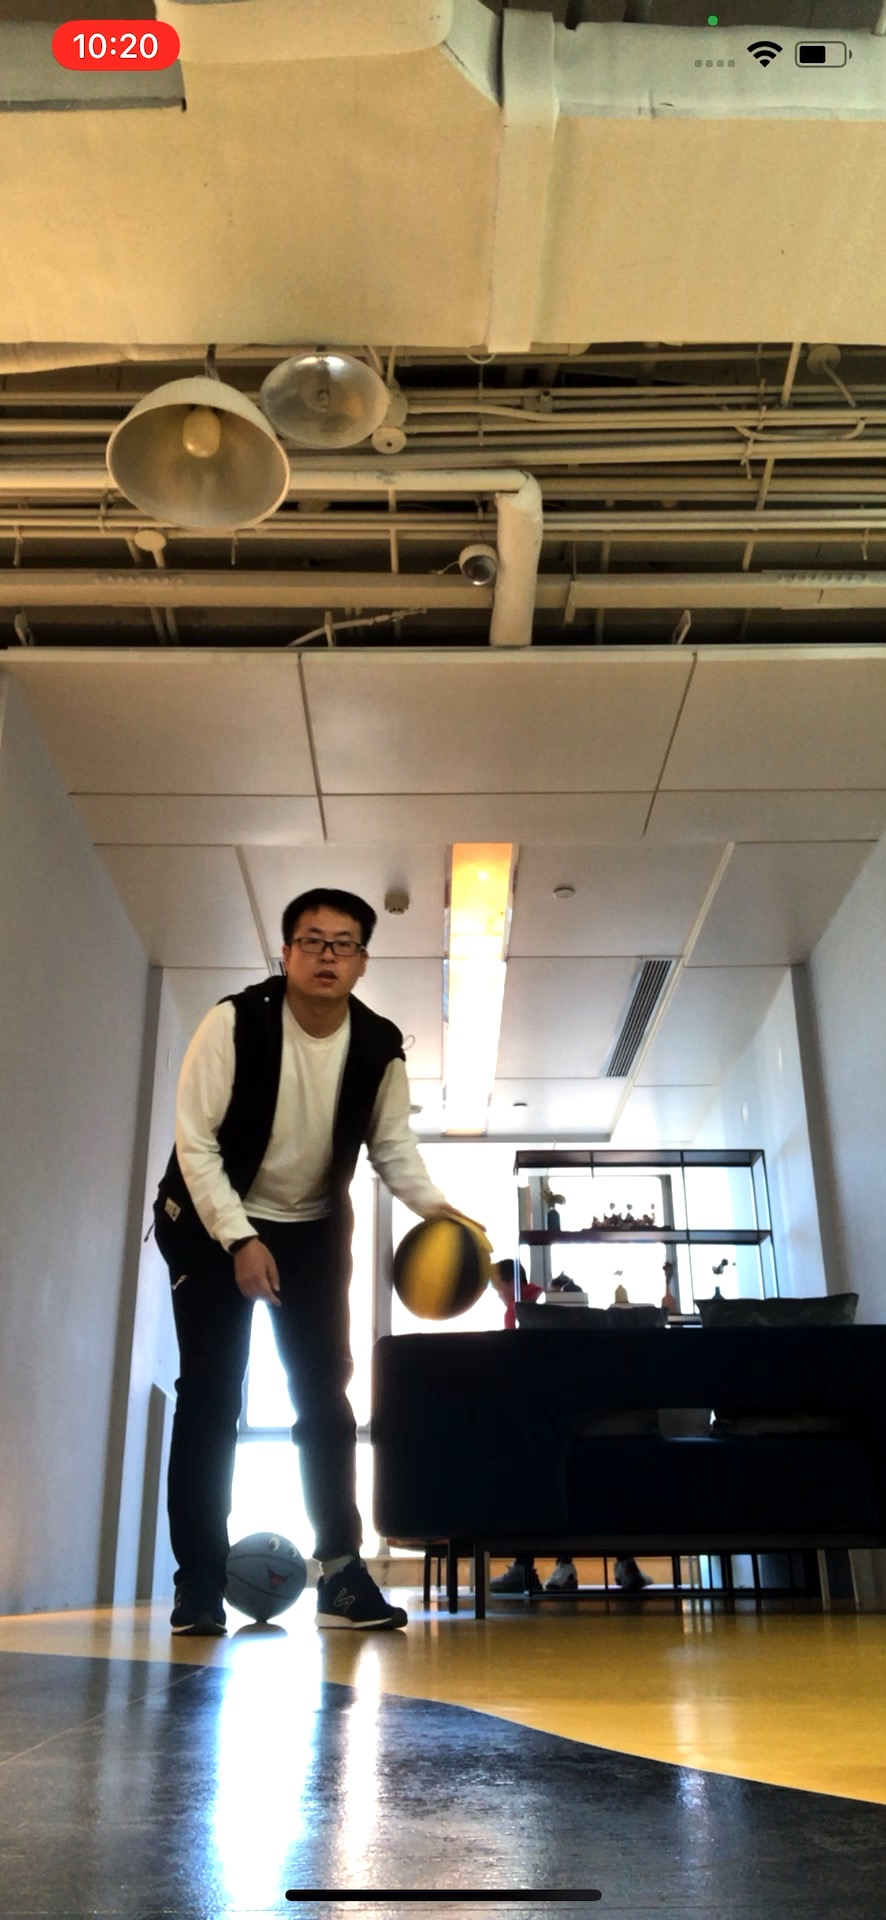ball: (396, 1212, 488, 1316), (231, 1529, 308, 1625)
